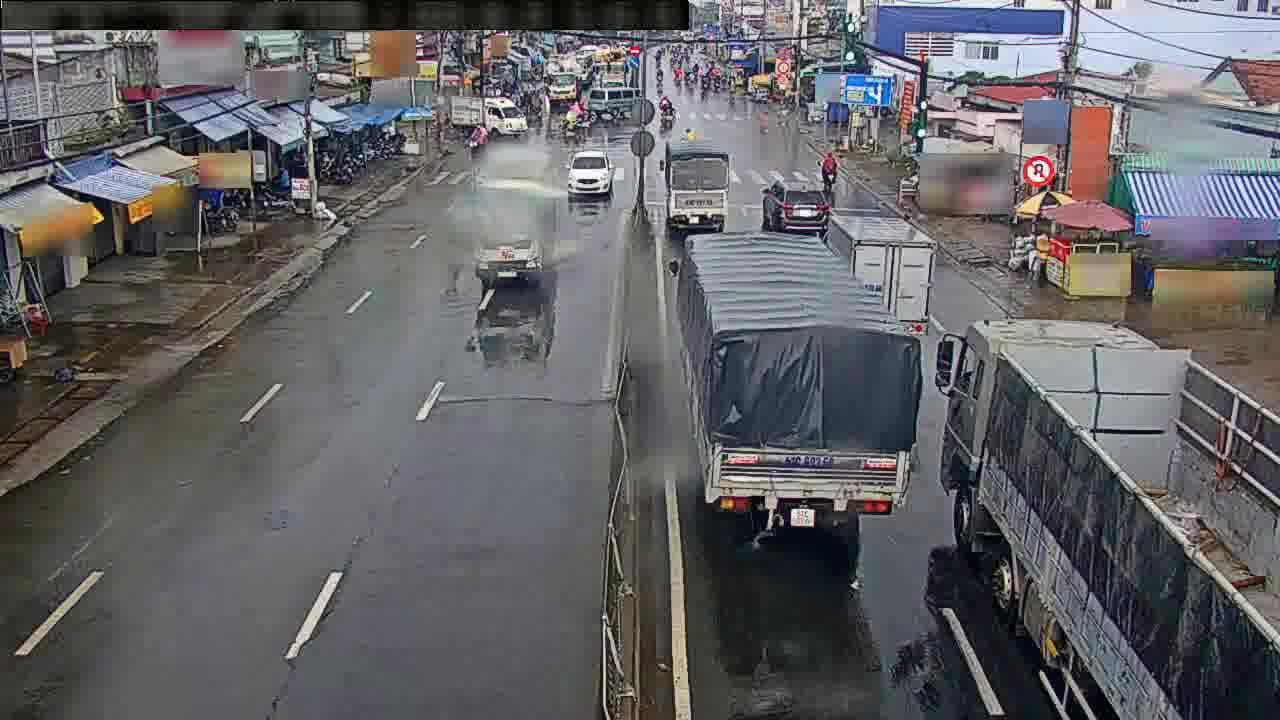8: (957, 322, 1280, 720), (682, 234, 902, 509), (837, 211, 933, 327), (473, 157, 553, 281), (661, 135, 726, 226)
container: (771, 182, 834, 241), (564, 145, 620, 198), (485, 106, 523, 139)
motorbike: (815, 143, 839, 188), (461, 117, 487, 153), (656, 87, 674, 121)
